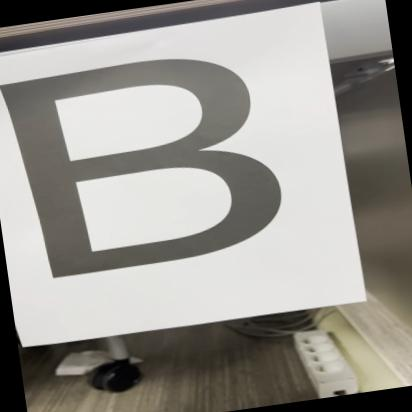seat: (0, 33, 302, 295)
